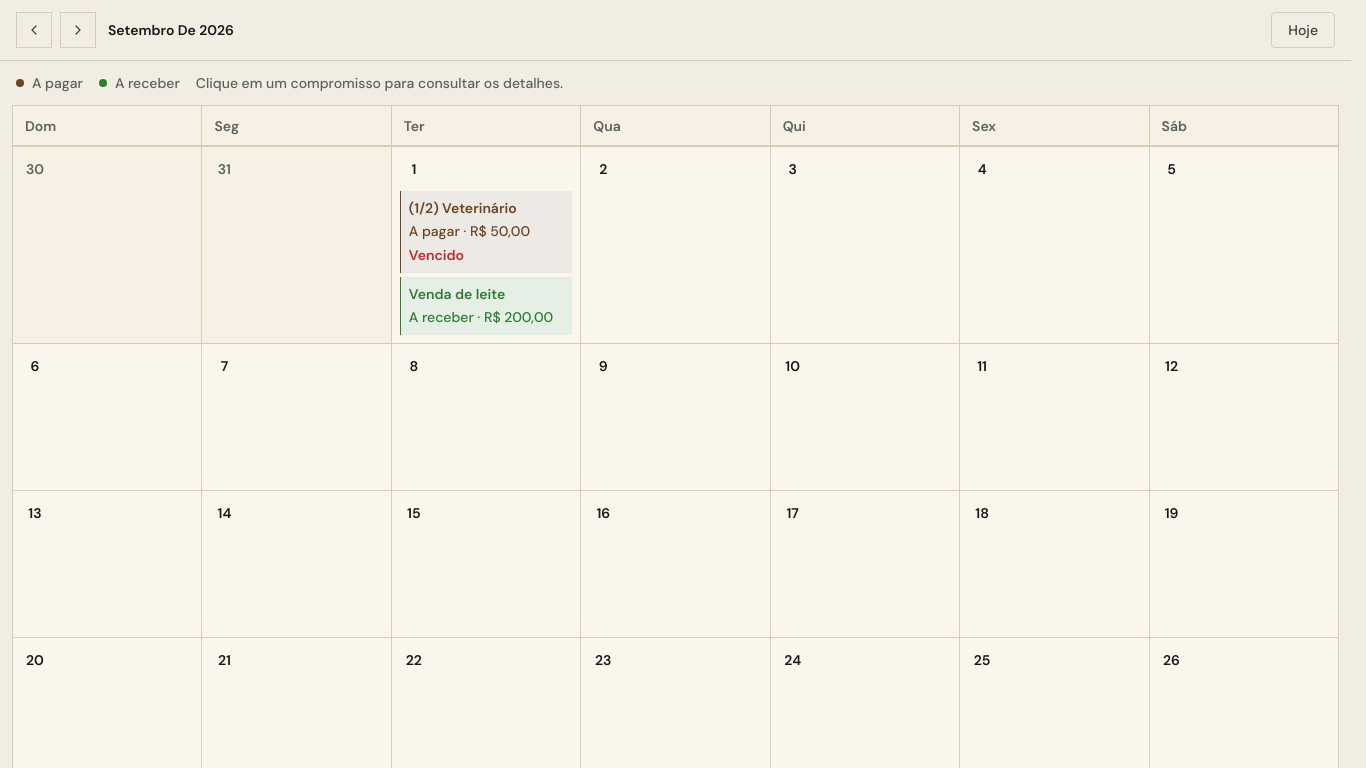
Test: calendário de compromissos › agrupa no dia financeiro correto e permite liquidar pelo detalhe sem duplicar a parcela
What coordinates should you click on to do the following:
click the button with aria-label "(1/2) Veterinário, a pagar"
I would click on:
 (486, 232)
Its box is [400,191,572,273].
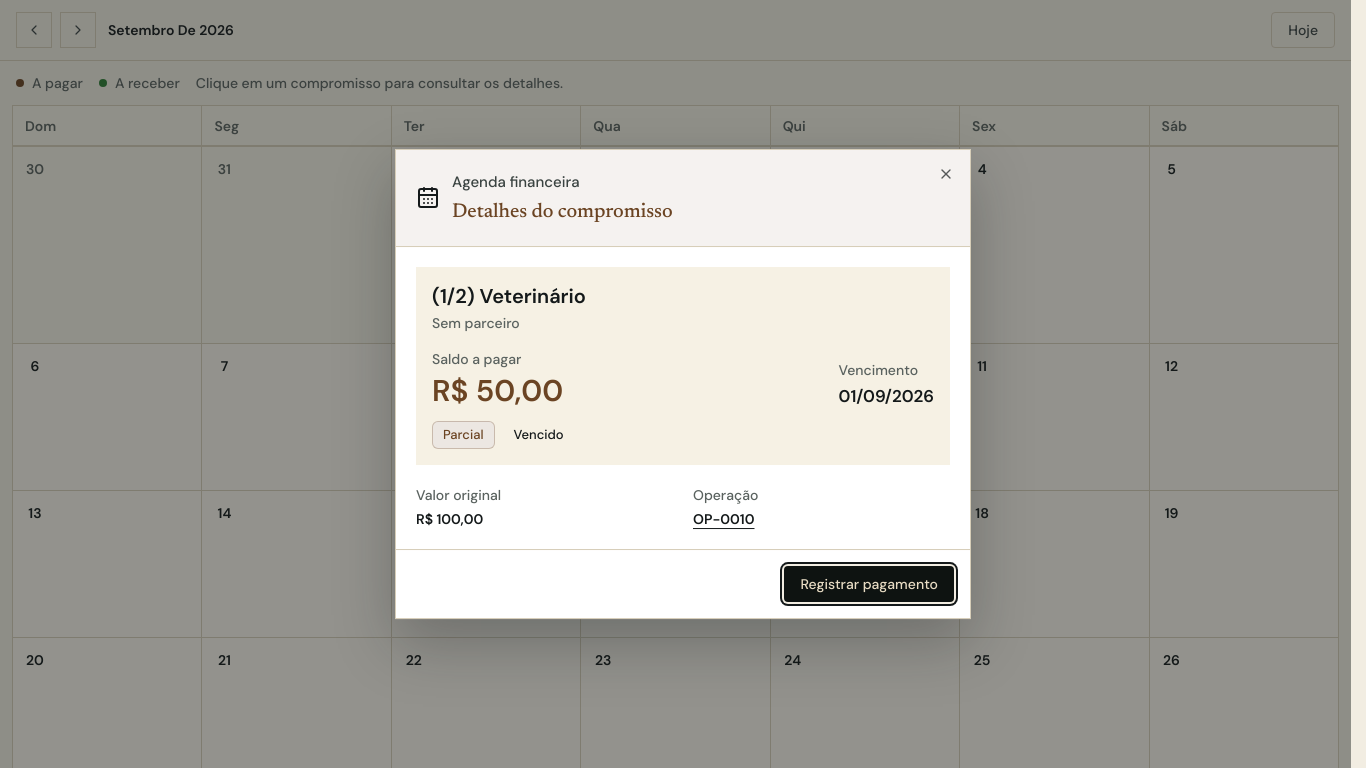
Now the heading "(1/2) Veterinário" is shown, box [432,283,586,309]
What coordinates should you click on to do the following:
click the button "Registrar pagamento"
I would click on:
 (869, 584)
Its box is [784,566,954,602].
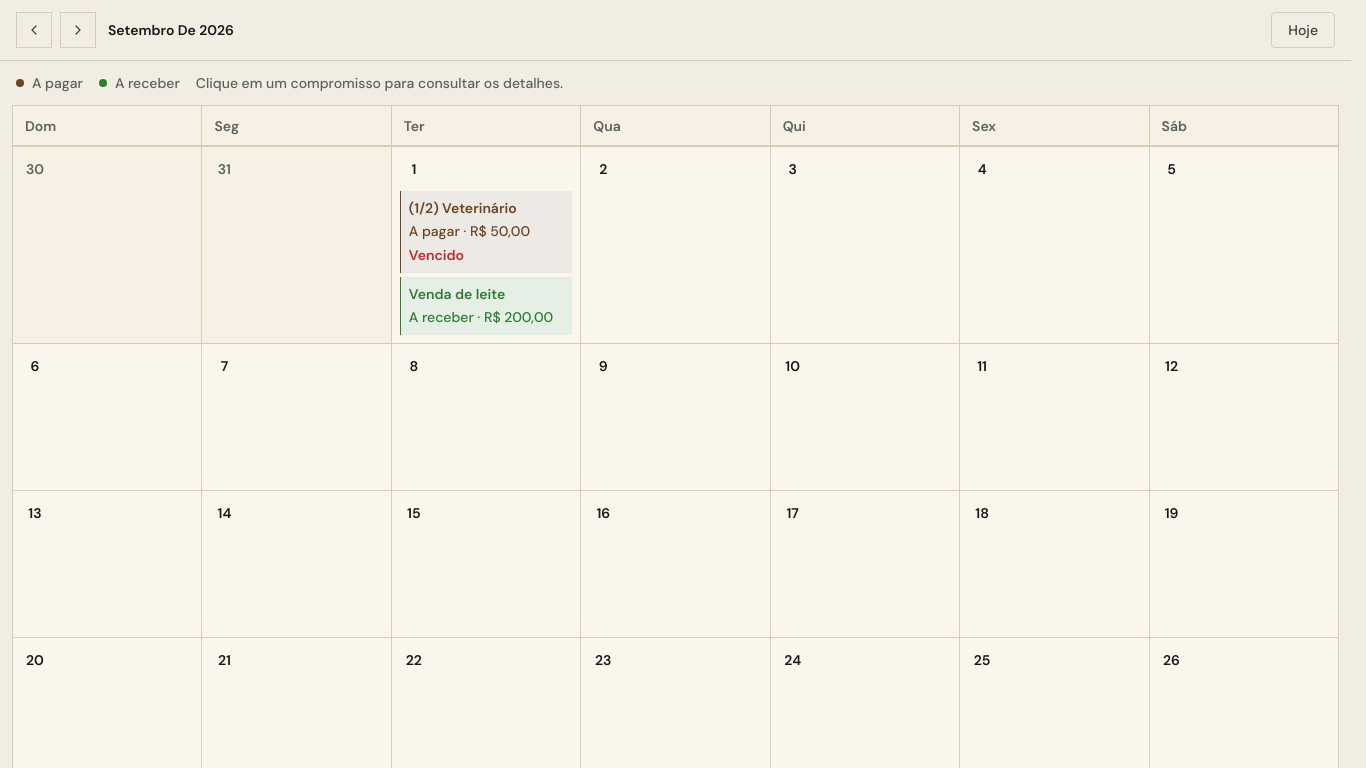
Now the dialog is gone
